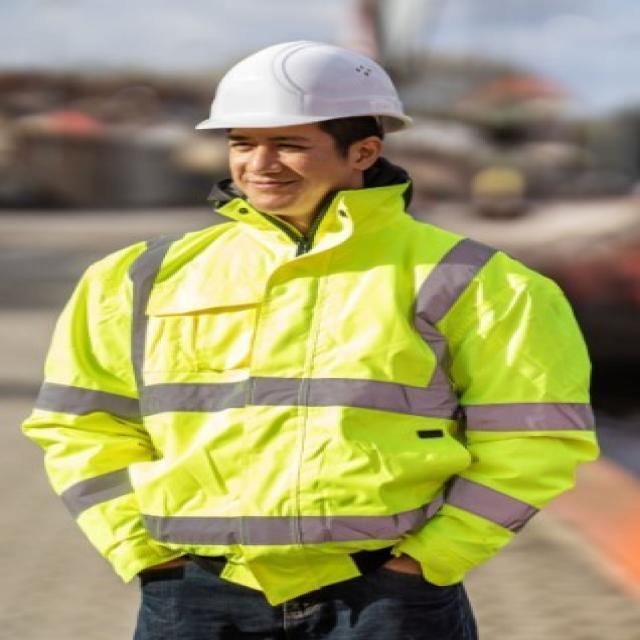safety_helmet: (34, 189, 611, 592)
